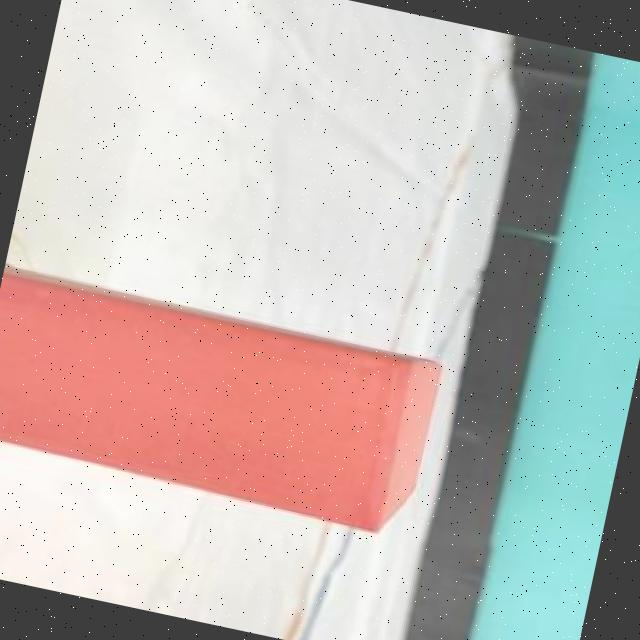redbox: (0, 272, 443, 529)
